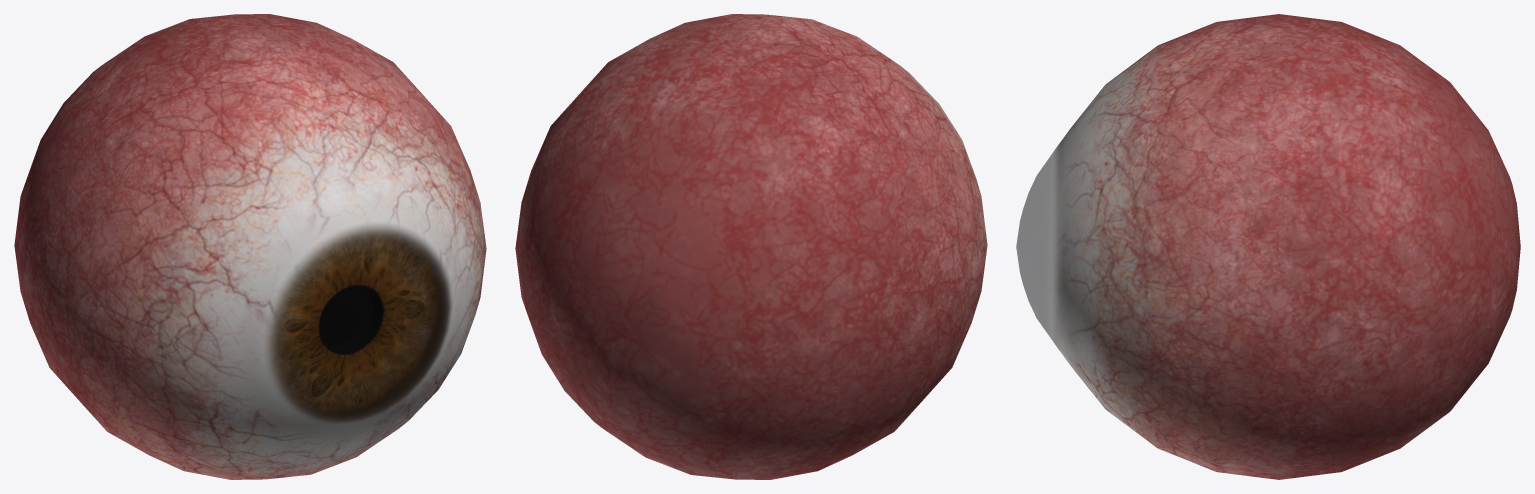
The model's file is eye.glb.
3 renders of one model, left to right at view 1: azimuth 30°, elevation 25°; view 2: azimuth 150°, elevation 25°; view 3: azimuth 270°, elevation 25°, orthographic.
Parts seen in each view (by area): view 1: low; view 2: low; view 3: low.
Boxes of the visible parts, x1,y1,x2,y2 form: low: (14, 14, 486, 479); low: (515, 14, 987, 479); low: (1016, 14, 1520, 479).
Size of the model in its own units: 1.85 by 1.85 by 2.
Materials: 1 (1 with a texture image).
